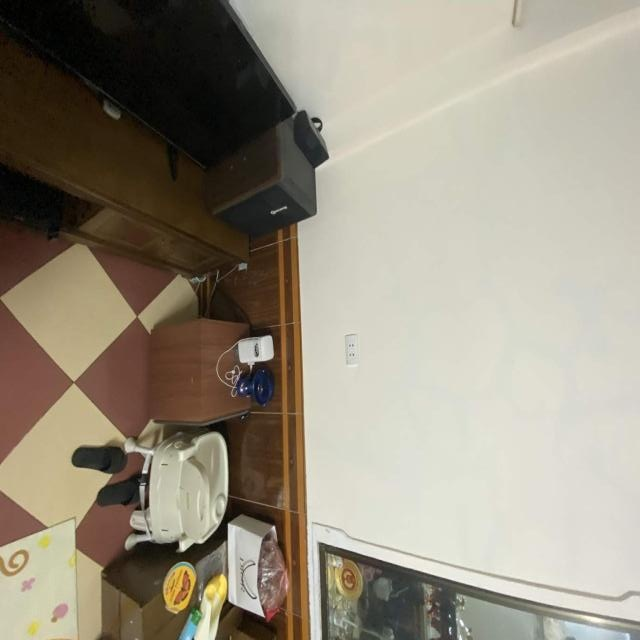outlet: (345, 333, 359, 366)
